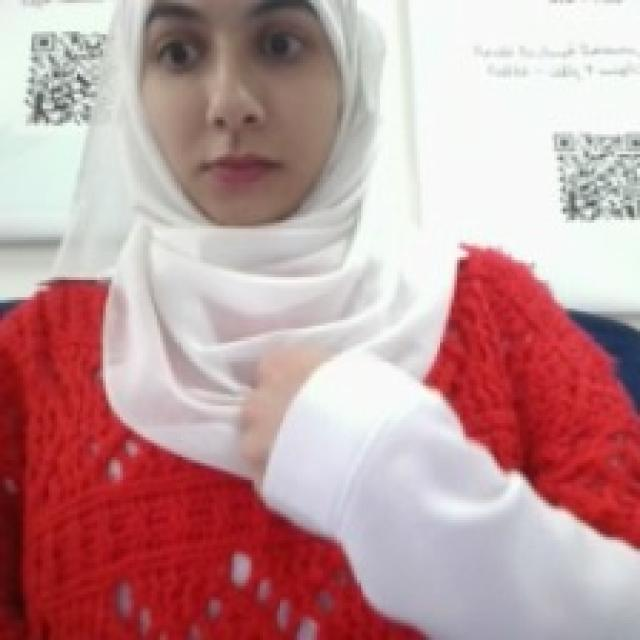me: (232, 335, 362, 506)
